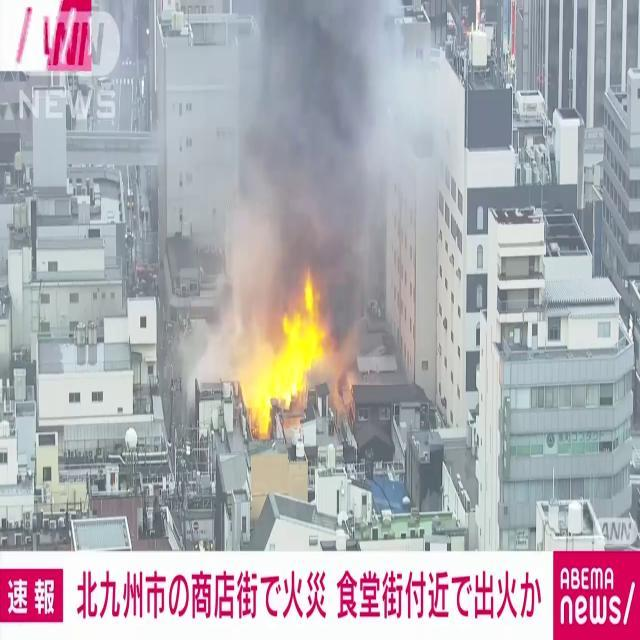Fire: (236, 274, 346, 432)
Smoke: (201, 1, 438, 323)
